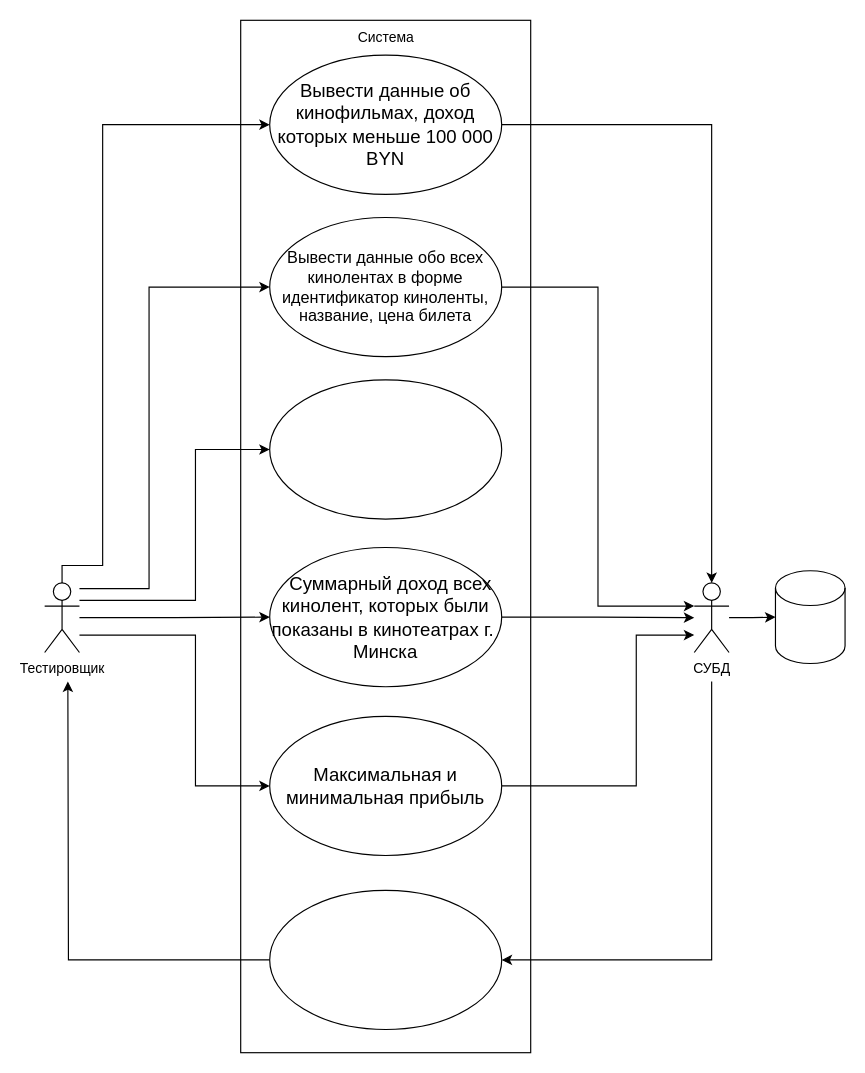
Some shapes in this 865 by 1073 pixel diagram are drawn without their labels. The shapes that lost their labels are listed below. From the top down, each one's centre as x and y in pixels, then its label:
[385,449]: Подсчет количества кинолент, если цена билета >=3 BYN
[809,617]: База данных
[385,959]: Отправить полученные данные
